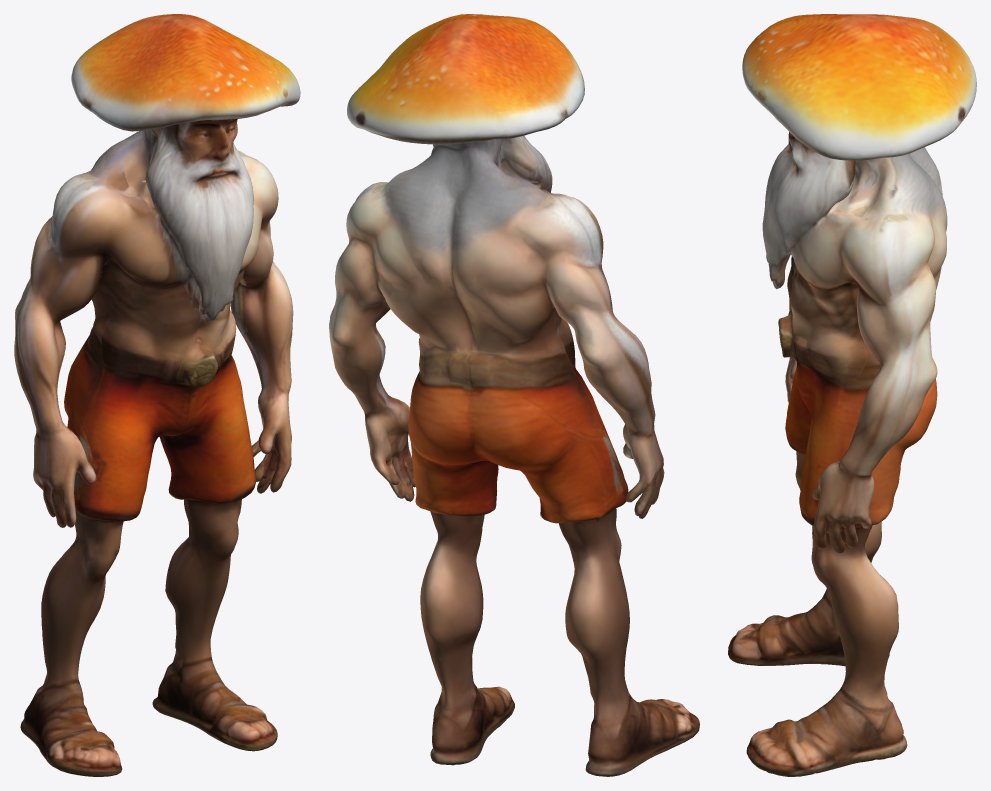
The model's file is nuno model.fbx.
3 views of the same model, side by side, from view 1: azimuth 30°, elevation 25°; view 2: azimuth 150°, elevation 25°; view 3: azimuth 270°, elevation 25° (orthographic). The views are drawn at different scales.
Parts seen in each view (by area): view 1: Mesh_0; view 2: Mesh_0; view 3: Mesh_0.
Part boxes in pixels (box(x1,y1,x2,y2)): Mesh_0: box(14, 14, 300, 776); Mesh_0: box(329, 14, 699, 776); Mesh_0: box(728, 14, 976, 776).
Size of the model in its own units: 119 by 272 by 83.44.
